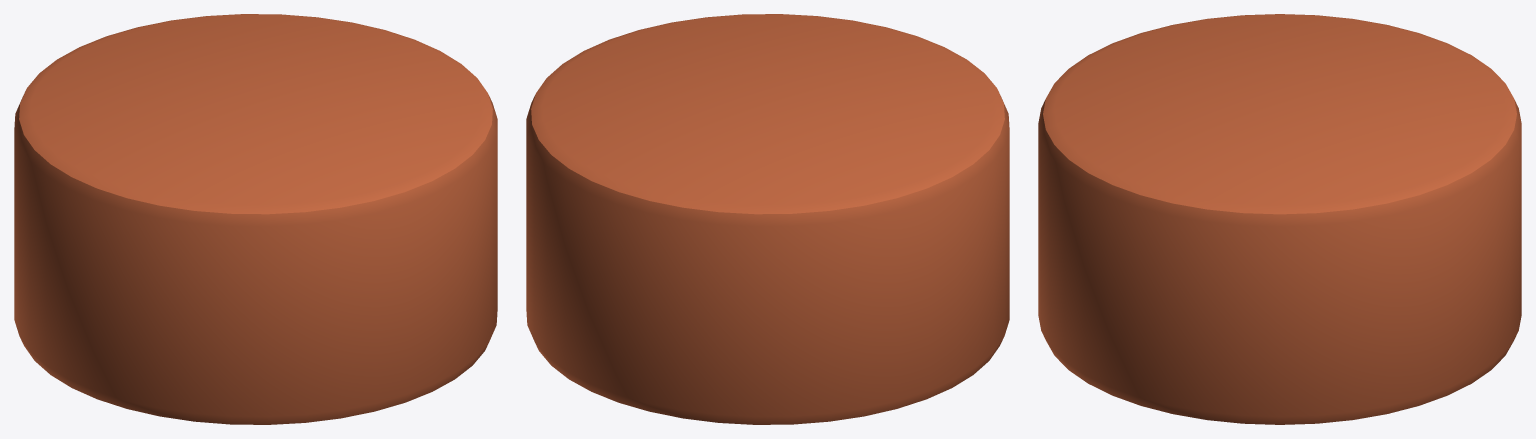
The model's file is jigsaw_speed_wheel.glb.
The picture shows the model from 3 angles, left to right: view 1: azimuth 30°, elevation 25°; view 2: azimuth 150°, elevation 25°; view 3: azimuth 270°, elevation 25°; orthographic projection.
Visible parts, largest first — view 1: jigsaw_speed_wheel; view 2: jigsaw_speed_wheel; view 3: jigsaw_speed_wheel.
Part boxes in pixels (x1,y1,x2,y2): jigsaw_speed_wheel: [14, 14, 497, 424]; jigsaw_speed_wheel: [526, 14, 1009, 424]; jigsaw_speed_wheel: [1038, 14, 1521, 424].
Bounding box in the file's own units: 0.024 × 0.012 × 0.024.
